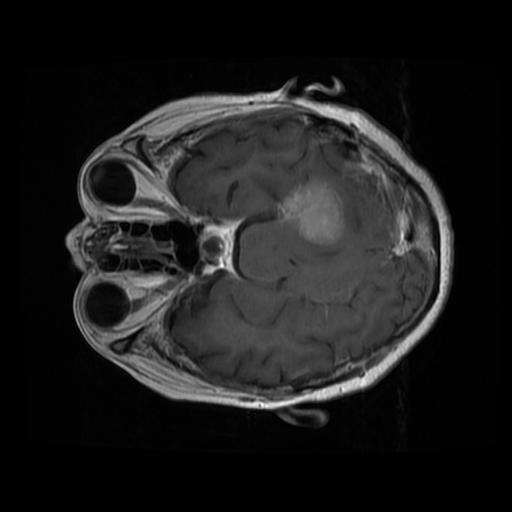meningioma: (275, 182, 345, 246)
